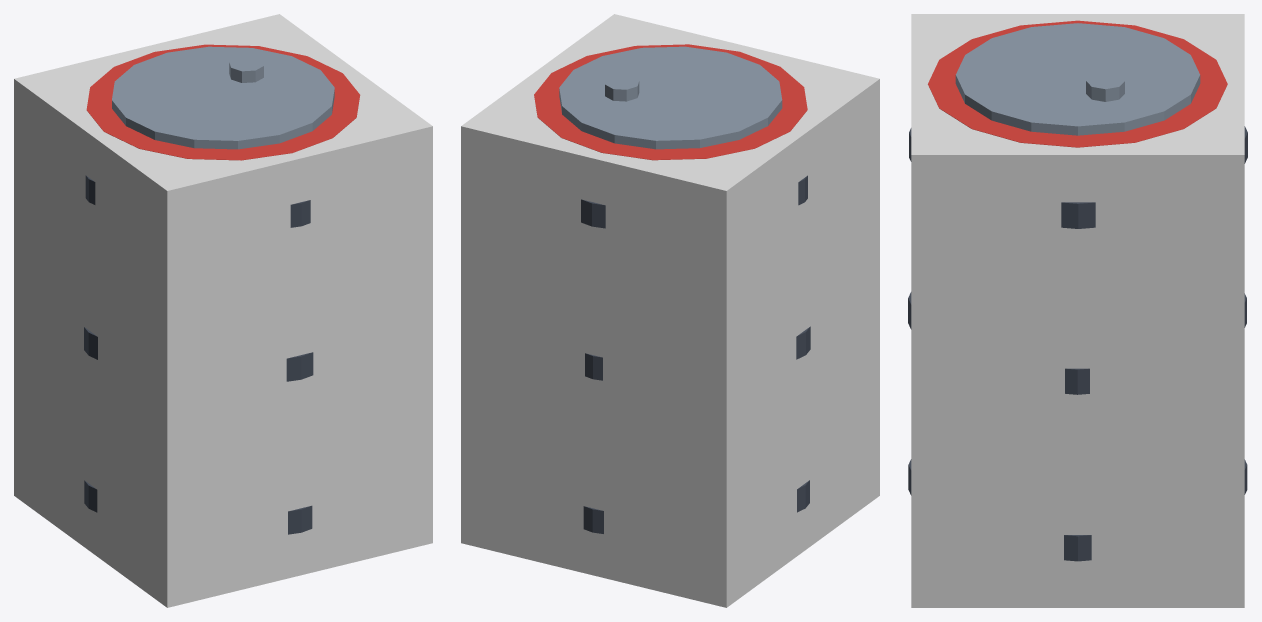
File: prop_barrel_a.glb
3 views of the same model, side by side, from view 1: azimuth 30°, elevation 25°; view 2: azimuth 150°, elevation 25°; view 3: azimuth 270°, elevation 25° (orthographic). The views are drawn at different scales.
Parts seen in each view (by area): view 1: COL_prop_barrel_a_1, prop_barrel_a; view 2: COL_prop_barrel_a_1, prop_barrel_a; view 3: COL_prop_barrel_a_1, prop_barrel_a.
Part boxes in pixels (x1,y1,x2,y2): COL_prop_barrel_a_1: (14, 14, 432, 607); prop_barrel_a: (84, 44, 360, 534); COL_prop_barrel_a_1: (461, 14, 879, 607); prop_barrel_a: (534, 44, 810, 533); COL_prop_barrel_a_1: (911, 14, 1244, 607); prop_barrel_a: (908, 20, 1247, 561).
Bounding box in the file's own units: 0.6117 × 0.9444 × 0.6116.
